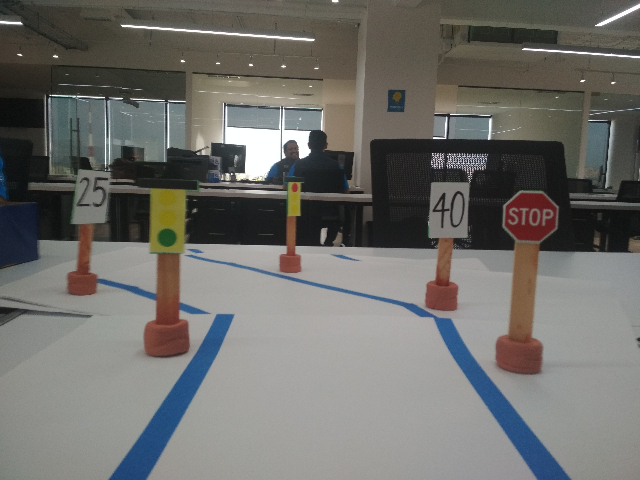Green Traffic Light: (133, 177, 199, 258)
Red Traffic Light: (281, 175, 306, 220)
Speed Limit 25: (68, 167, 112, 224)
Speed Limit 40: (424, 179, 469, 238)
Stop Sign: (500, 189, 562, 243)
